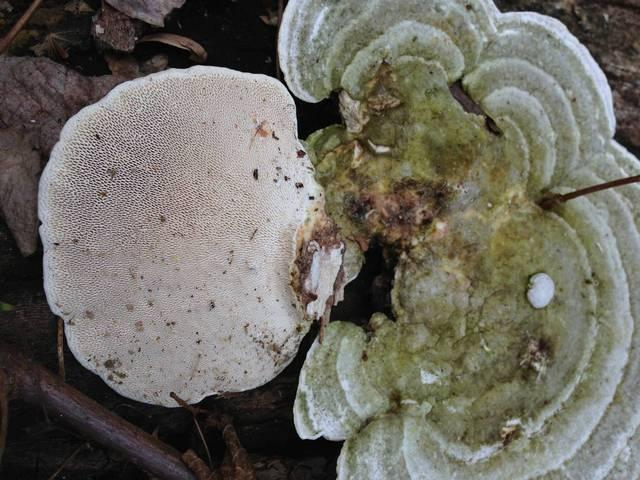poisonous_mushroom: (252, 6, 640, 480), (35, 62, 346, 408)
